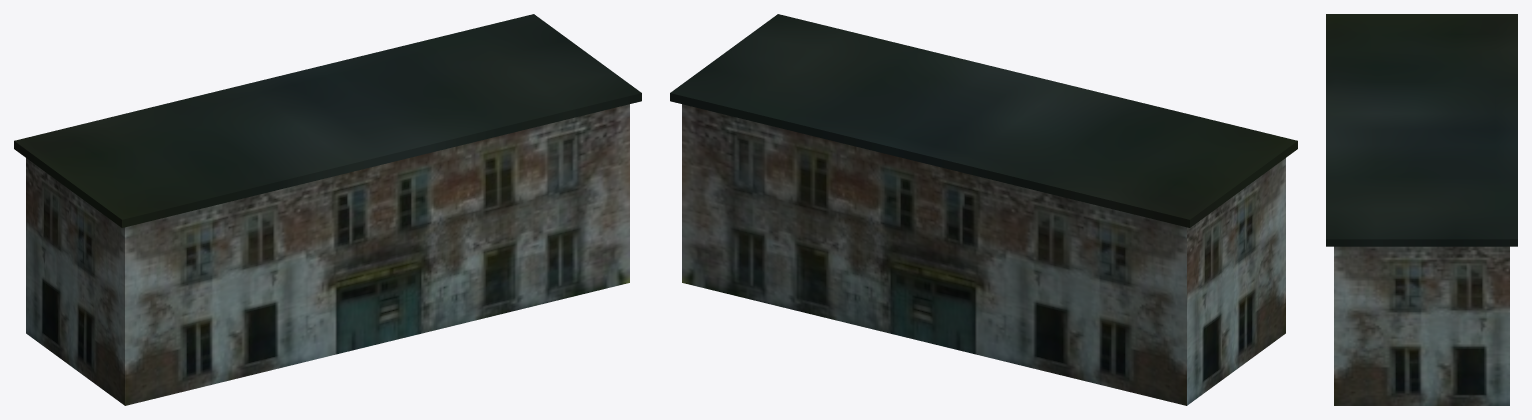
Rendered from building.house_12.glb.
3 views of the same model, side by side, from view 1: azimuth 30°, elevation 25°; view 2: azimuth 150°, elevation 25°; view 3: azimuth 270°, elevation 25° (orthographic). The views are drawn at different scales.
Visible parts, largest first — view 1: Cube004; view 2: Cube004; view 3: Cube004.
Boxes of the visible parts, x1,y1,x2,y2 form: Cube004: (14, 14, 641, 405); Cube004: (670, 14, 1297, 405); Cube004: (1326, 14, 1517, 405).
Bounding box in the file's own units: 7.26 × 2.55 × 2.61.
Materials: 1 (1 with a texture image).
